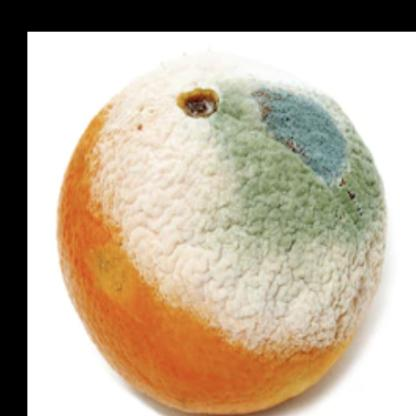rotten: (56, 77, 385, 416)
